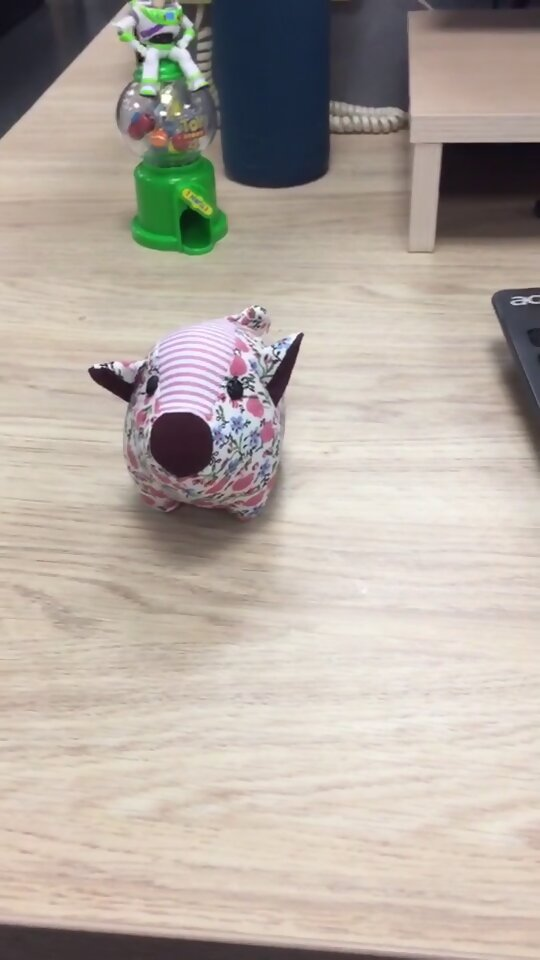pig: (88, 301, 307, 523)
